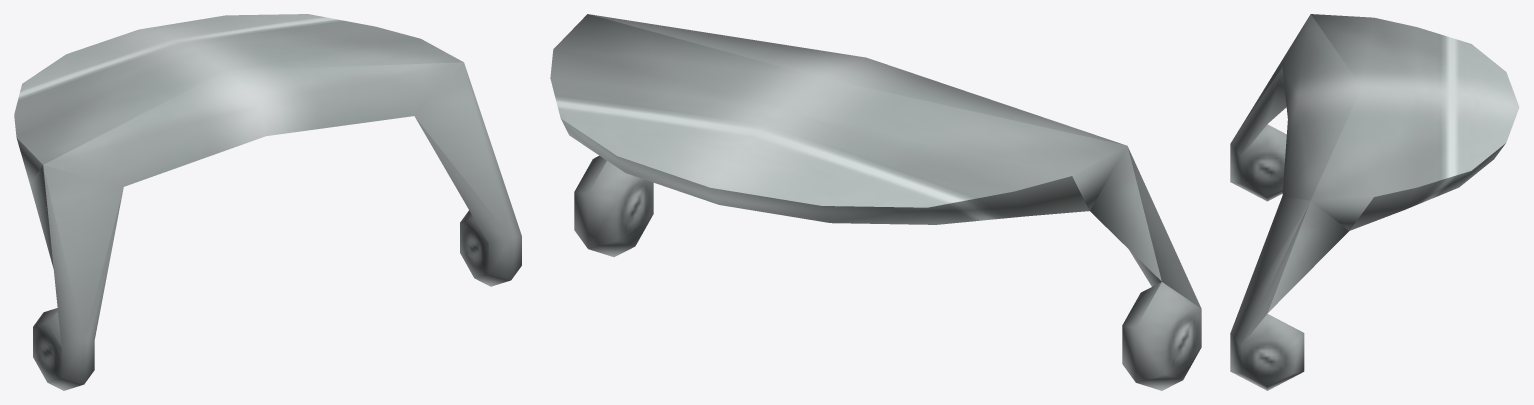
File: acc_16.glb
3 views of the same model, side by side, from view 1: azimuth 30°, elevation 25°; view 2: azimuth 150°, elevation 25°; view 3: azimuth 270°, elevation 25° (orthographic). The views are drawn at different scales.
Visible parts, largest first — view 1: vertex; view 2: vertex; view 3: vertex.
Boxes of the visible parts, x1=… form: vertex: x1=14, y1=14, x2=521, y2=390; vertex: x1=550, y1=14, x2=1201, y2=390; vertex: x1=1230, y1=14, x2=1519, y2=390.
Bounding box in the file's own units: 1.02 × 0.4874 × 0.6104.
Materials: 1 (1 with a texture image).
